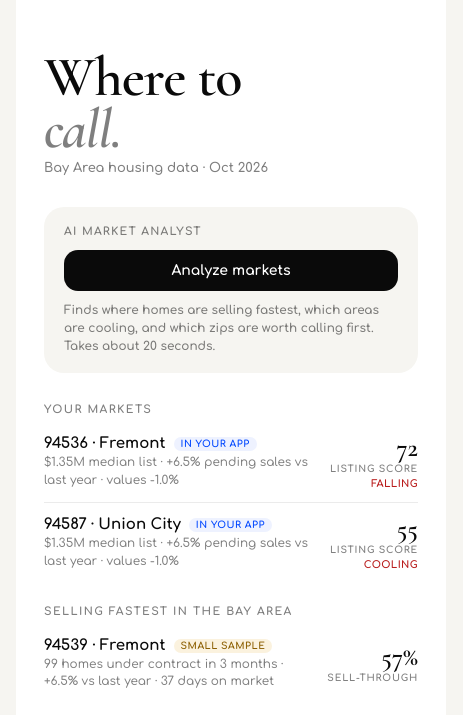
Scenario: Markets page: the AI analyst › can be run again to replace the analysis
Click the button "Analyze markets" at (231,270), box [64,250,398,291]
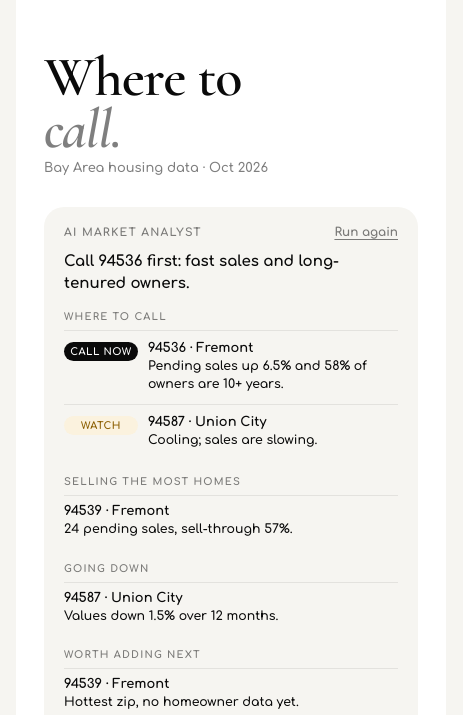
Expected: the text "Call 94536 first: fast sales and long-tenured owners." is shown, [64,253,339,292]
Click the button "Run again" at (366,232), box [334,225,398,239]
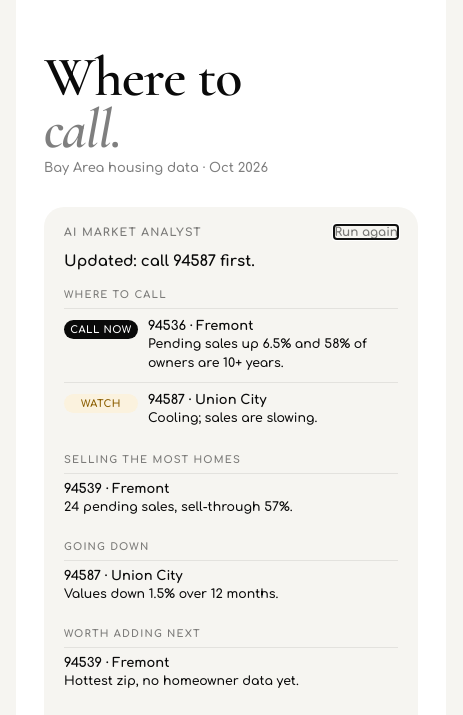
Expected: the text "Updated: call 94587 first." is shown, [64,253,255,270]
Expected: the text "Call 94536 first" is gone
